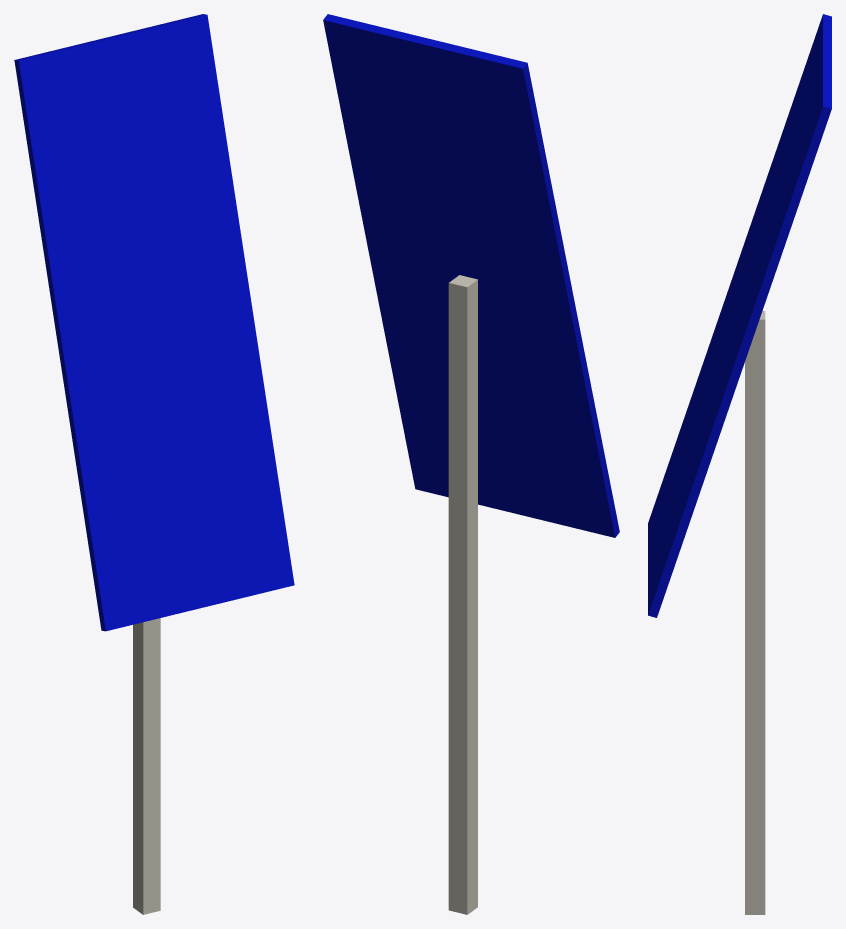
Rendered from panel.obj.
3 views of the same model, side by side, from view 1: azimuth 30°, elevation 25°; view 2: azimuth 150°, elevation 25°; view 3: azimuth 270°, elevation 25° (orthographic). The views are drawn at different scales.
Parts seen in each view (by area): view 1: Cube.001_Cube.002, Cube_Cube.001; view 2: Cube.001_Cube.002, Cube_Cube.001; view 3: Cube.001_Cube.002, Cube_Cube.001.
Boxes of the visible parts, x1,y1,x2,y2 form: Cube.001_Cube.002: (14,14,294,631); Cube_Cube.001: (133,618,160,914); Cube.001_Cube.002: (323,14,619,537); Cube_Cube.001: (448,275,477,914); Cube.001_Cube.002: (648,14,831,617); Cube_Cube.001: (745,311,765,914).
Bounding box in the file's own units: 2 × 8.57 × 1.68.
